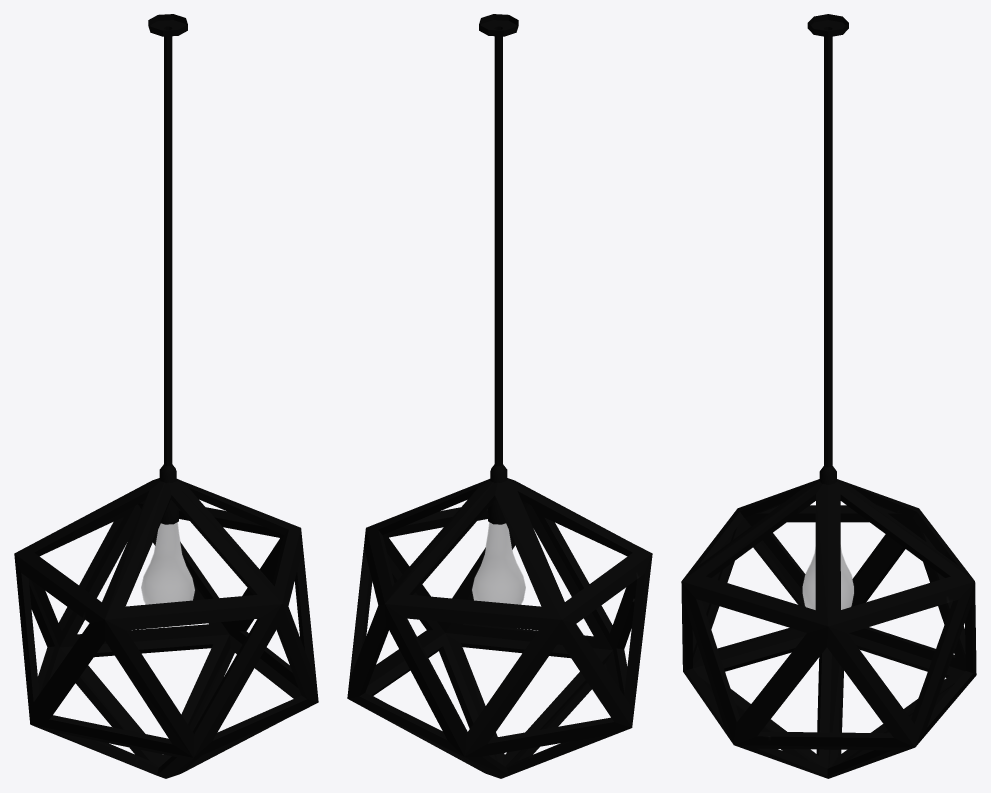
The model's file is lamp.glb.
3 renders of one model, left to right at view 1: azimuth 30°, elevation 25°; view 2: azimuth 150°, elevation 25°; view 3: azimuth 270°, elevation 25°, orthographic.
Visible parts, largest first — view 1: Cylinder011; view 2: Cylinder011; view 3: Cylinder011.
Part boxes in pixels (<box>): Cylinder011: <box>14,14,318,778</box>; Cylinder011: <box>347,14,652,778</box>; Cylinder011: <box>681,14,976,778</box>.
Size of the model in its own units: 0.7435 by 2 by 0.7061.
Materials: 1 (1 with a texture image).
